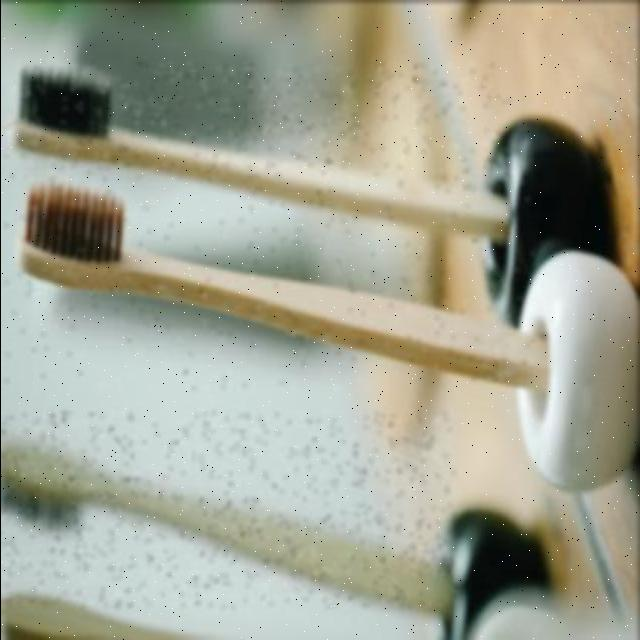toothbrush: (3, 177, 535, 387), (4, 61, 512, 250), (0, 410, 456, 606)
